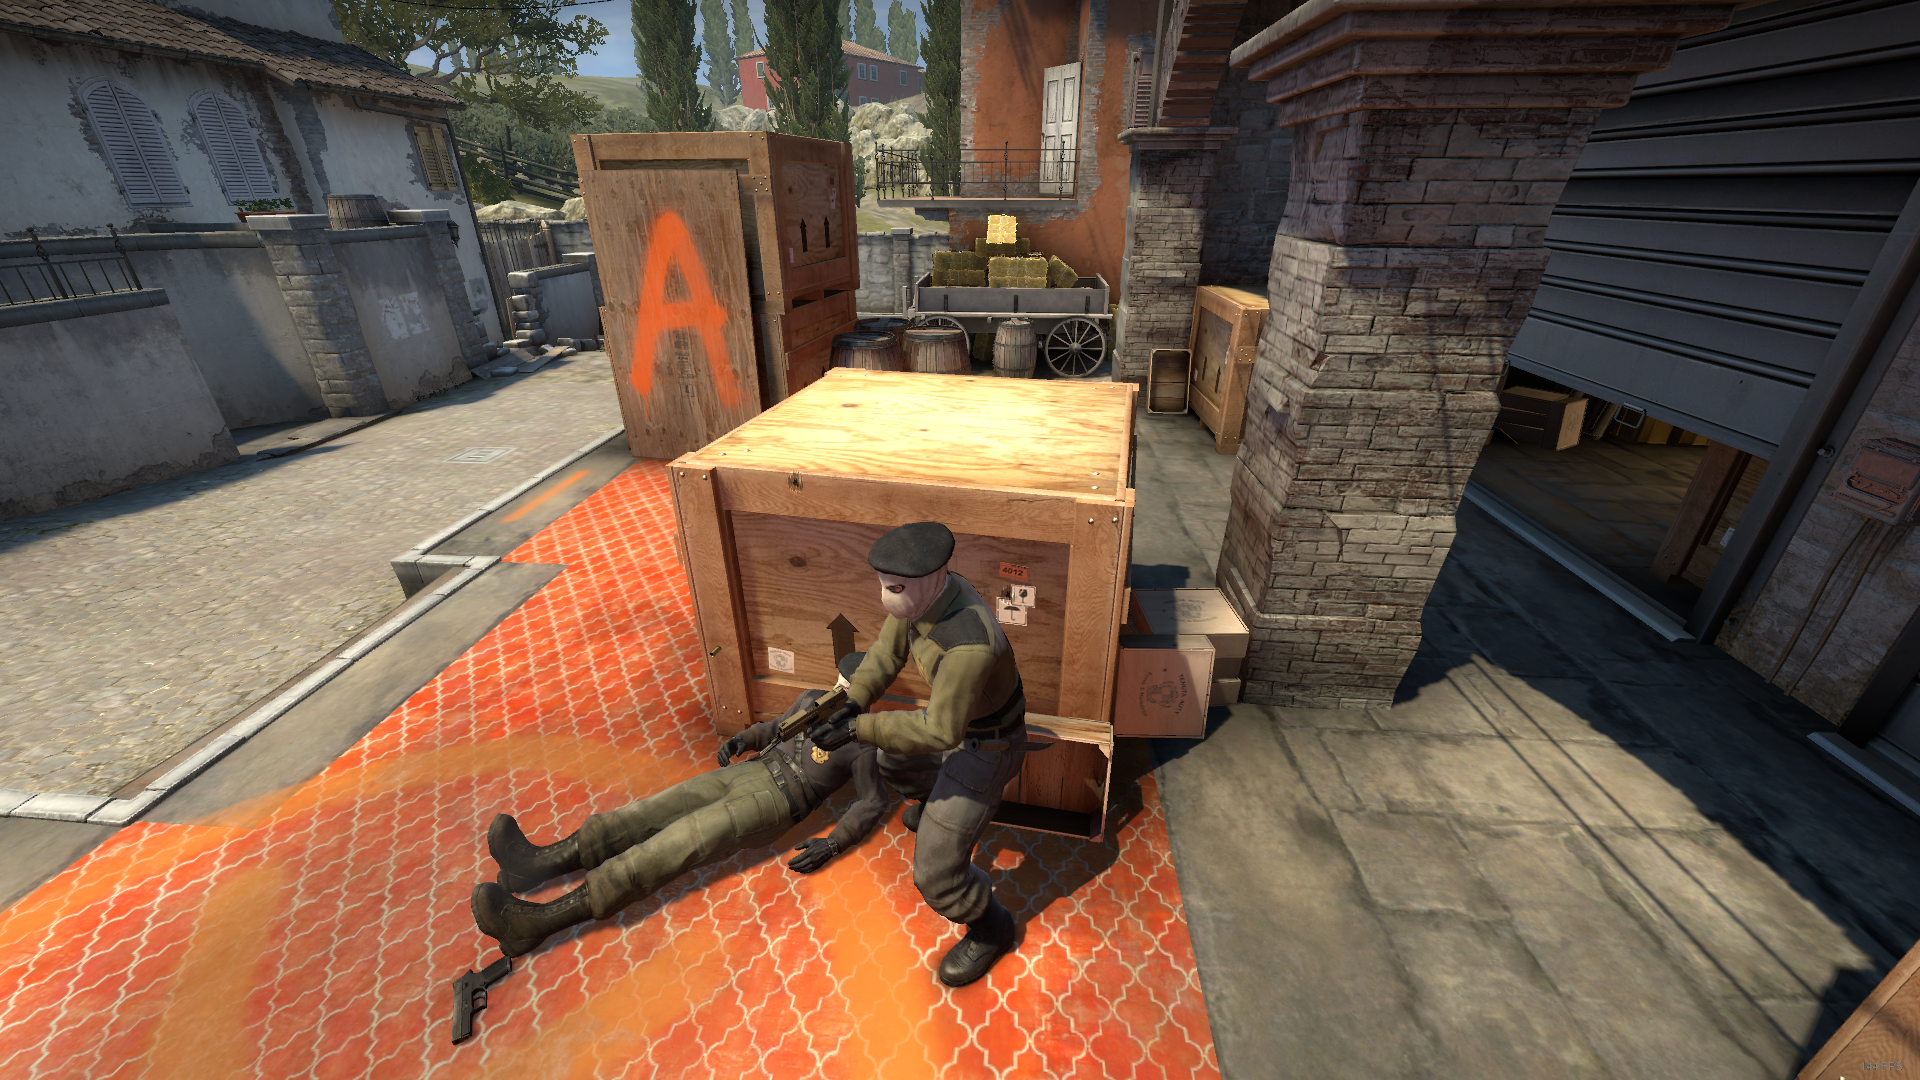t: (815, 524, 1029, 986)
